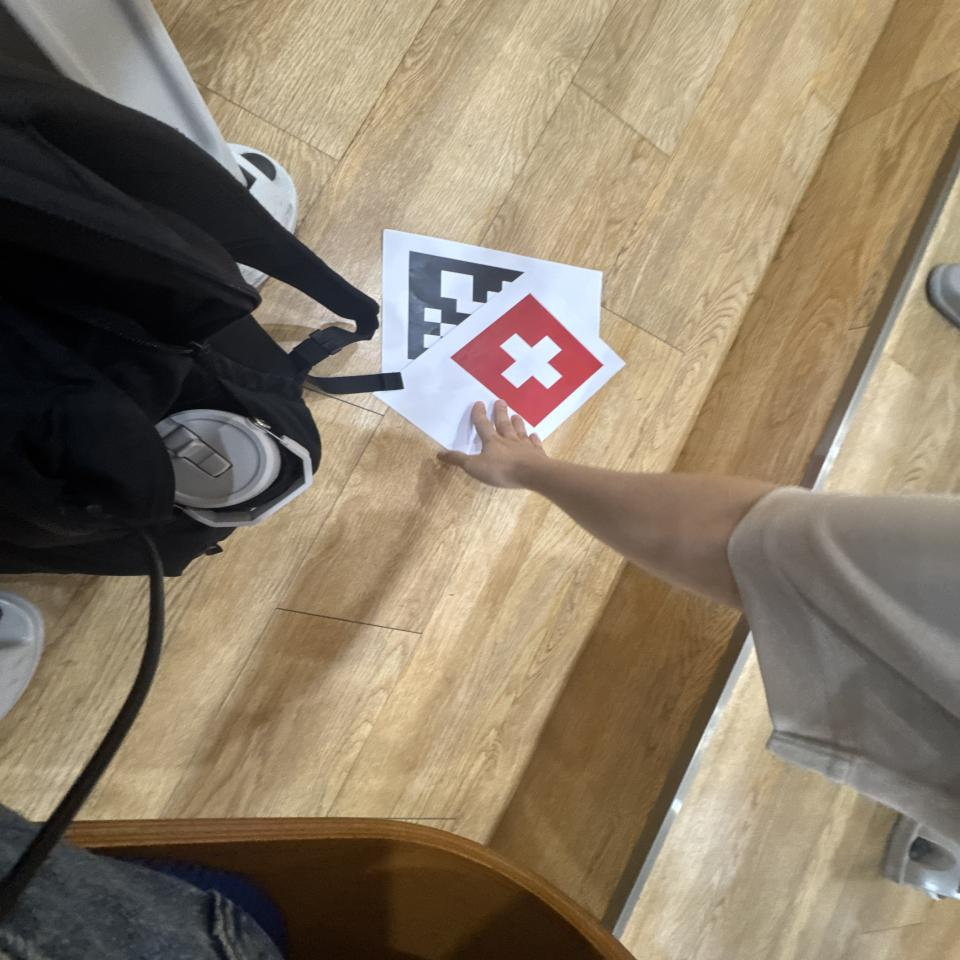rescue point: (454, 288, 612, 436)
